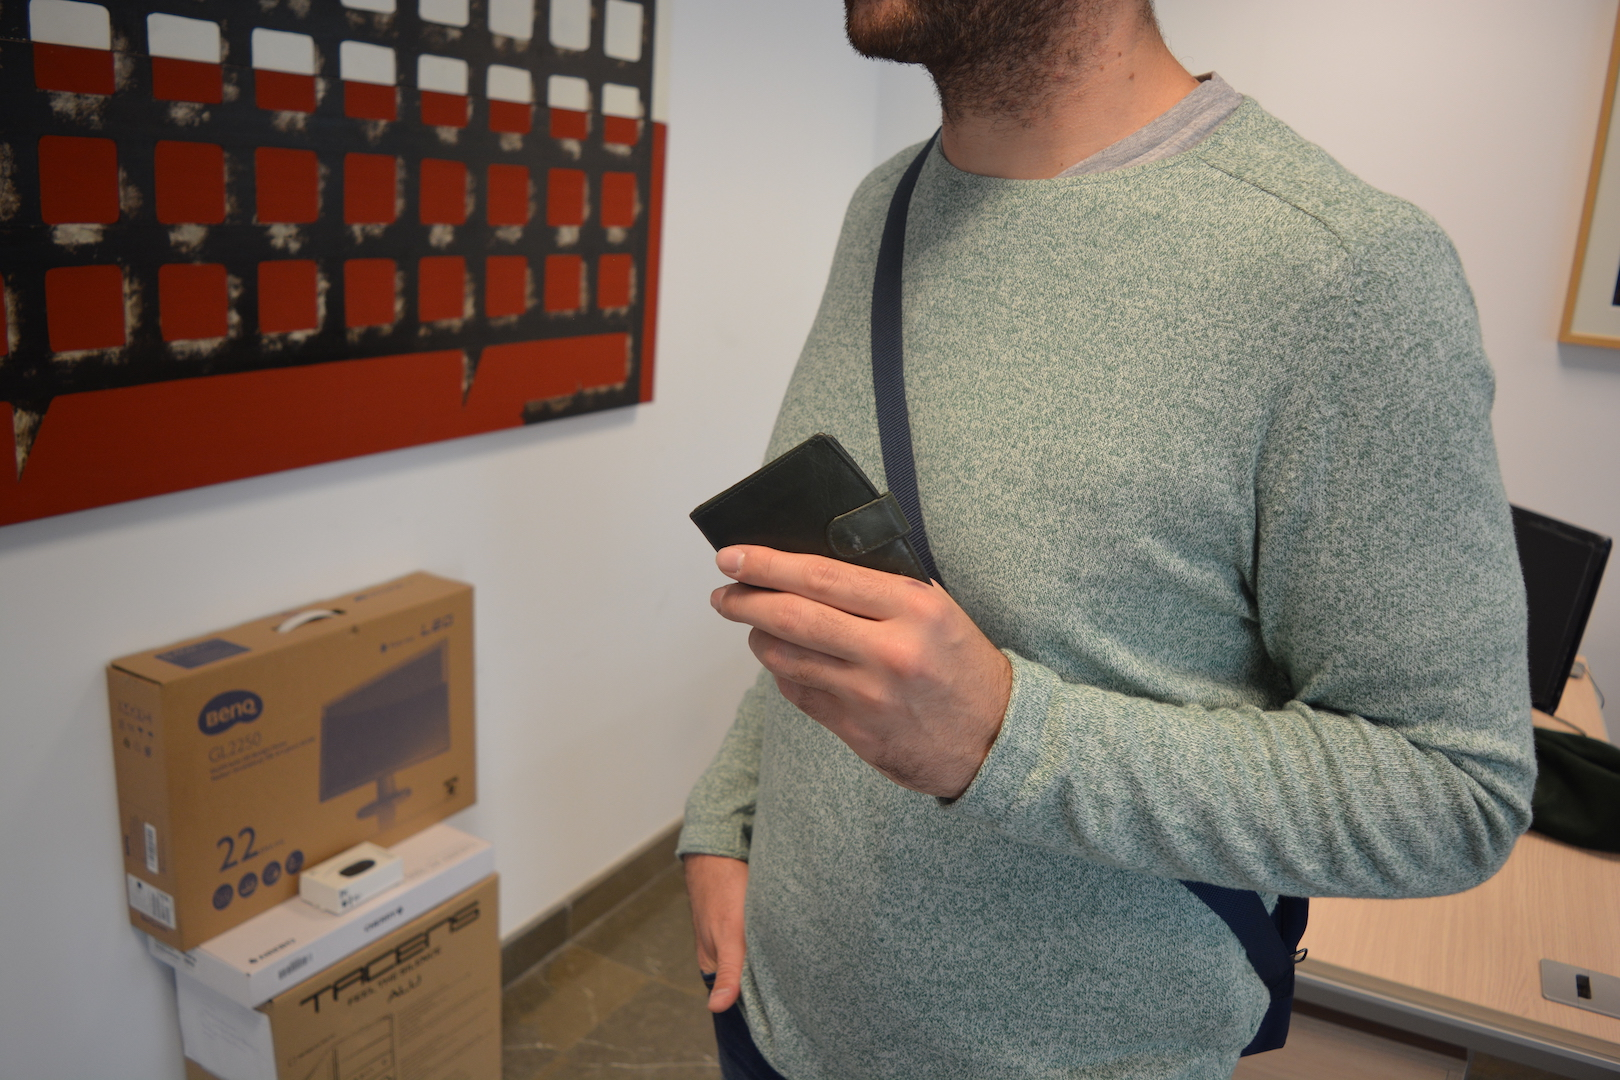monedero: (689, 434, 934, 622)
